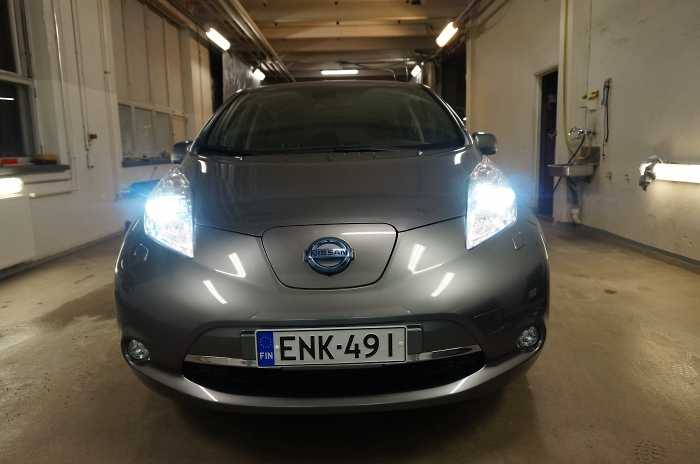license: (250, 322, 404, 364)
